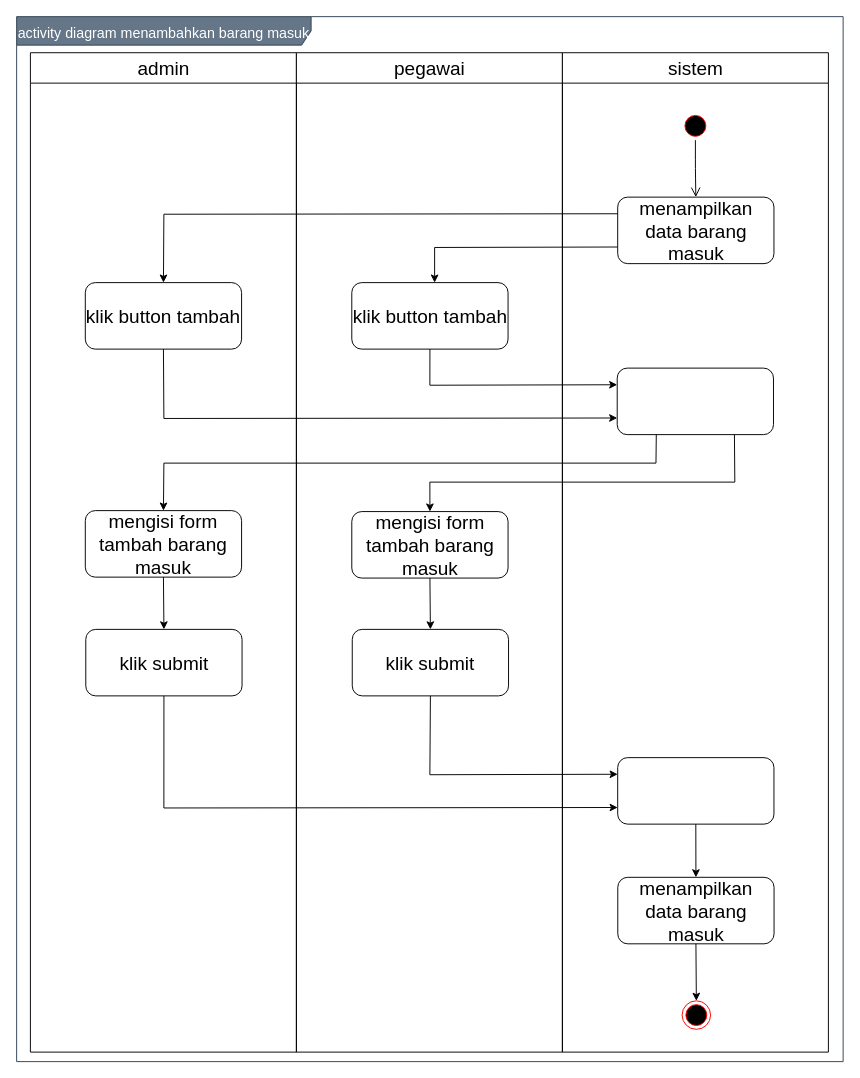
Image size: 860x1078. Some labels were removed from this diagram. The shapes that lost their labels are listed below. From the top down, each one's centre as x and y in pixels, then its label:
At (x=694, y=401): "menampilkan form tambah barang masuk".
At (x=695, y=790): "menyimpan ke database".
